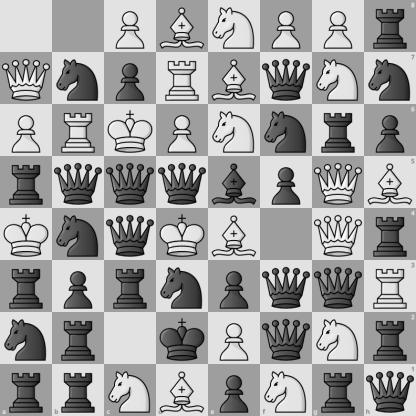B: (156, 364, 209, 416), (364, 156, 416, 209), (157, 1, 208, 52), (209, 53, 260, 104), (209, 209, 260, 260)
K: (1, 209, 52, 260), (105, 105, 156, 156), (157, 209, 208, 260)
N: (104, 364, 156, 416), (260, 364, 312, 416), (209, 1, 260, 52), (209, 105, 260, 156), (313, 53, 364, 104), (313, 313, 364, 364)
P: (1, 105, 52, 156), (105, 1, 156, 52), (157, 105, 208, 156), (209, 313, 260, 364), (261, 1, 312, 52), (313, 1, 364, 52)
Q: (1, 53, 52, 104), (313, 157, 364, 208), (313, 209, 364, 260)
R: (364, 260, 416, 312), (53, 105, 104, 156), (157, 53, 208, 104)
b: (209, 157, 260, 208)
board: (0, 0, 415, 415)
k: (157, 313, 208, 364)
n: (364, 52, 416, 104), (1, 313, 52, 364), (53, 53, 104, 104), (53, 209, 104, 260), (157, 261, 208, 312), (261, 105, 312, 156)
p: (364, 104, 416, 156), (209, 364, 260, 416), (53, 261, 104, 312), (105, 53, 156, 104), (209, 261, 260, 312), (261, 157, 312, 208)
q: (364, 364, 416, 416), (53, 157, 104, 208), (105, 157, 156, 208), (105, 209, 156, 260), (157, 157, 208, 208), (261, 53, 312, 104), (261, 261, 312, 312), (261, 313, 312, 364), (313, 261, 364, 312)
r: (0, 364, 52, 416), (52, 364, 104, 416), (312, 364, 364, 416), (364, 0, 416, 52), (364, 312, 416, 364), (364, 209, 416, 260), (1, 157, 52, 208), (1, 261, 52, 312), (53, 313, 104, 364), (105, 261, 156, 312), (313, 105, 364, 156)
